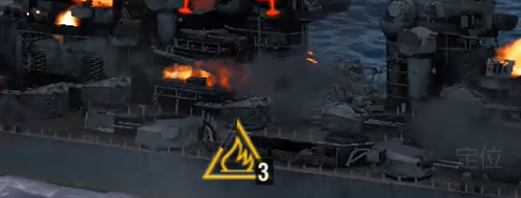3fire: (192, 142, 275, 186)
